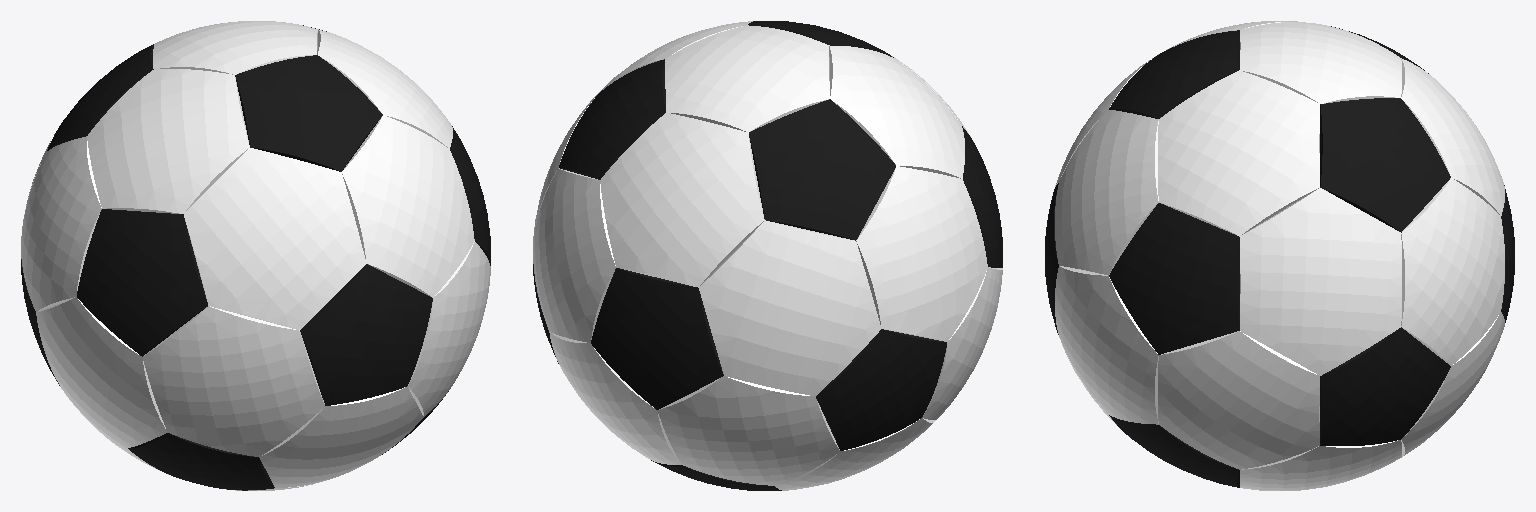
File: soccer.obj
3 views of the same model, side by side, from view 1: azimuth 30°, elevation 25°; view 2: azimuth 150°, elevation 25°; view 3: azimuth 270°, elevation 25° (orthographic).
Parts seen in each view (by area): view 1: 物件_232_物件_232.004, 物件_233_物件_233.004, 物件_218_物件_218.004, 物件_231_物件_231.004, 物件_224_物件_224.004, 物件_228_物件_228.004, 物件_223_物件_223.004, 物件_219_物件_219.004, 物件_213_物件_213.004, 物件_234_物件_234.004, 物件_230_物件_230.004, 物件_217_物件_217.004 (+4 smaller); view 2: 物件_208_物件_208.004, 物件_212_物件_212.004, 物件_213_物件_213.004, 物件_206_物件_206.004, 物件_209_物件_209.004, 物件_217_物件_217.004, 物件_203_物件_203.004, 物件_218_物件_218.004, 物件_211_物件_211.004, 物件_207_物件_207.004, 物件_222_物件_222.004, 物件_210_物件_210.004 (+7 smaller); view 3: 物件_216_物件_216.004, 物件_221_物件_221.004, 物件_229_物件_229.004, 物件_211_物件_211.004, 物件_226_物件_226.004, 物件_231_物件_231.004, 物件_222_物件_222.004, 物件_230_物件_230.004, 物件_205_物件_205.004, 物件_217_物件_217.004, 物件_212_物件_212.004, 物件_223_物件_223.004 (+6 smaller).
Part boxes in pixels (bbox=[...]): 物件_232_物件_232.004: bbox=[184, 148, 366, 329]; 物件_233_物件_233.004: bbox=[142, 306, 324, 456]; 物件_218_物件_218.004: bbox=[87, 69, 249, 213]; 物件_231_物件_231.004: bbox=[342, 115, 474, 297]; 物件_224_物件_224.004: bbox=[77, 209, 207, 356]; 物件_228_物件_228.004: bbox=[300, 264, 432, 405]; 物件_223_物件_223.004: bbox=[235, 55, 382, 171]; 物件_219_物件_219.004: bbox=[36, 297, 167, 447]; 物件_213_物件_213.004: bbox=[21, 136, 101, 311]; 物件_234_物件_234.004: bbox=[259, 386, 423, 487]; 物件_230_物件_230.004: bbox=[408, 241, 490, 416]; 物件_217_物件_217.004: bbox=[153, 21, 317, 74]; 物件_208_物件_208.004: bbox=[699, 220, 881, 395]; 物件_212_物件_212.004: bbox=[600, 113, 764, 287]; 物件_213_物件_213.004: bbox=[856, 166, 987, 341]; 物件_206_物件_206.004: bbox=[749, 99, 895, 240]; 物件_209_物件_209.004: bbox=[657, 376, 839, 485]; 物件_217_物件_217.004: bbox=[665, 25, 829, 132]; 物件_203_物件_203.004: bbox=[591, 268, 723, 409]; 物件_218_物件_218.004: bbox=[829, 45, 964, 178]; 物件_211_物件_211.004: bbox=[533, 168, 615, 342]; 物件_207_物件_207.004: bbox=[816, 329, 946, 450]; 物件_222_物件_222.004: bbox=[559, 59, 665, 179]; 物件_210_物件_210.004: bbox=[549, 332, 681, 464]; 物件_216_物件_216.004: bbox=[1240, 188, 1401, 375]; 物件_221_物件_221.004: bbox=[1158, 70, 1319, 236]; 物件_229_物件_229.004: bbox=[1158, 331, 1319, 469]; 物件_211_物件_211.004: bbox=[1401, 178, 1504, 365]; 物件_226_物件_226.004: bbox=[1109, 203, 1239, 354]; 物件_231_物件_231.004: bbox=[1055, 110, 1158, 275]; 物件_222_物件_222.004: bbox=[1320, 98, 1450, 232]; 物件_230_物件_230.004: bbox=[1055, 266, 1158, 424]; 物件_205_物件_205.004: bbox=[1320, 327, 1450, 445]; 物件_217_物件_217.004: bbox=[1240, 22, 1401, 103]; 物件_212_物件_212.004: bbox=[1401, 58, 1504, 215]; 物件_223_物件_223.004: bbox=[1109, 30, 1239, 118].
Size of the model in its own units: 0.1821 by 0.182 by 0.182.